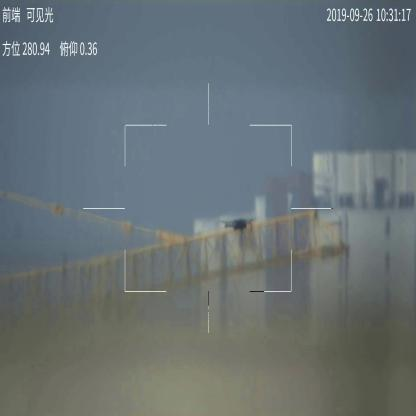uav: (219, 217, 256, 233)
